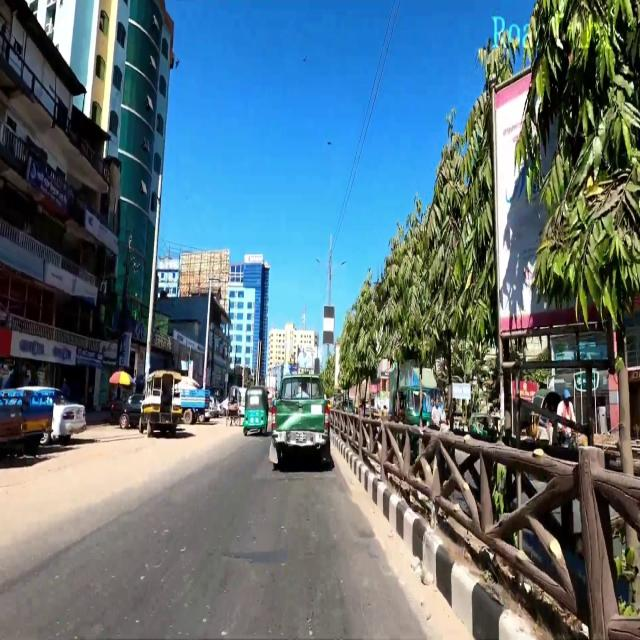white: (51, 380, 89, 454)
